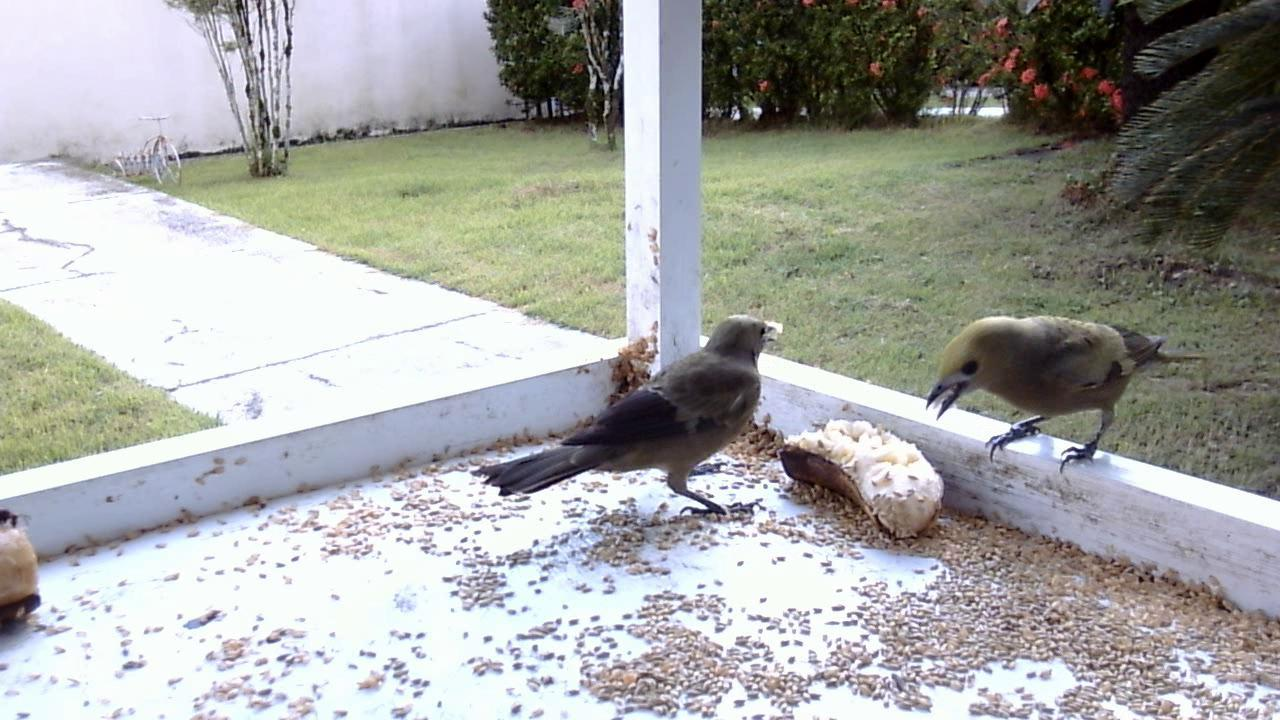sanhaco_do_coqueiro: (476, 308, 785, 524), (914, 305, 1182, 480)
